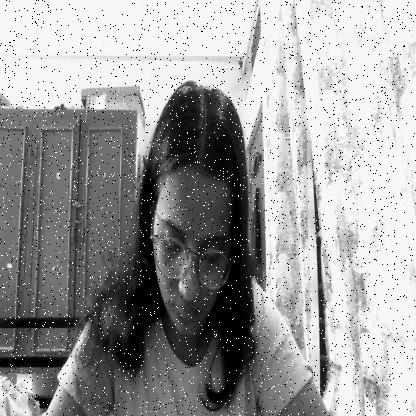Normal: (152, 143, 236, 336)
